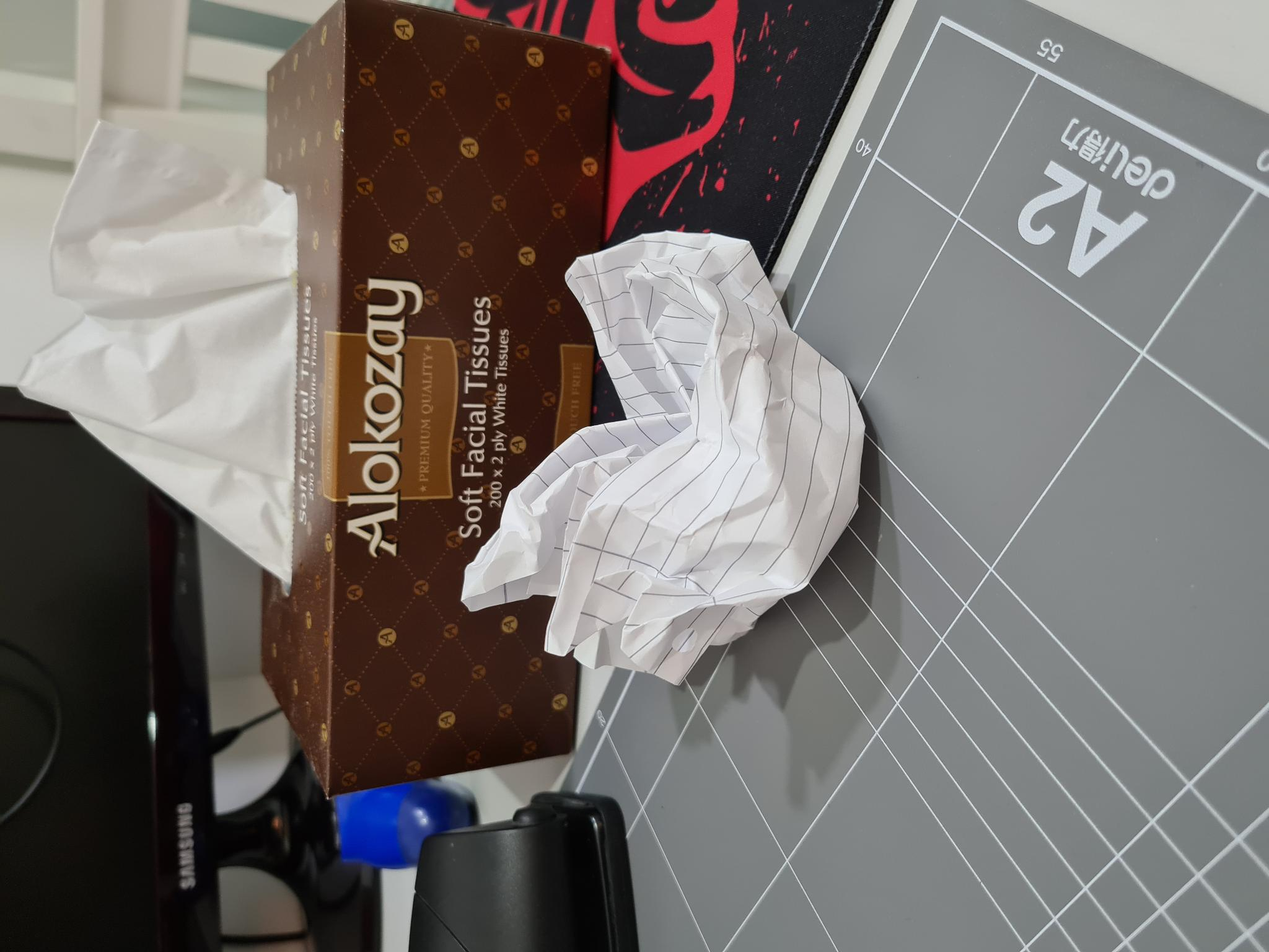Kertas: (274, 476, 716, 879)
